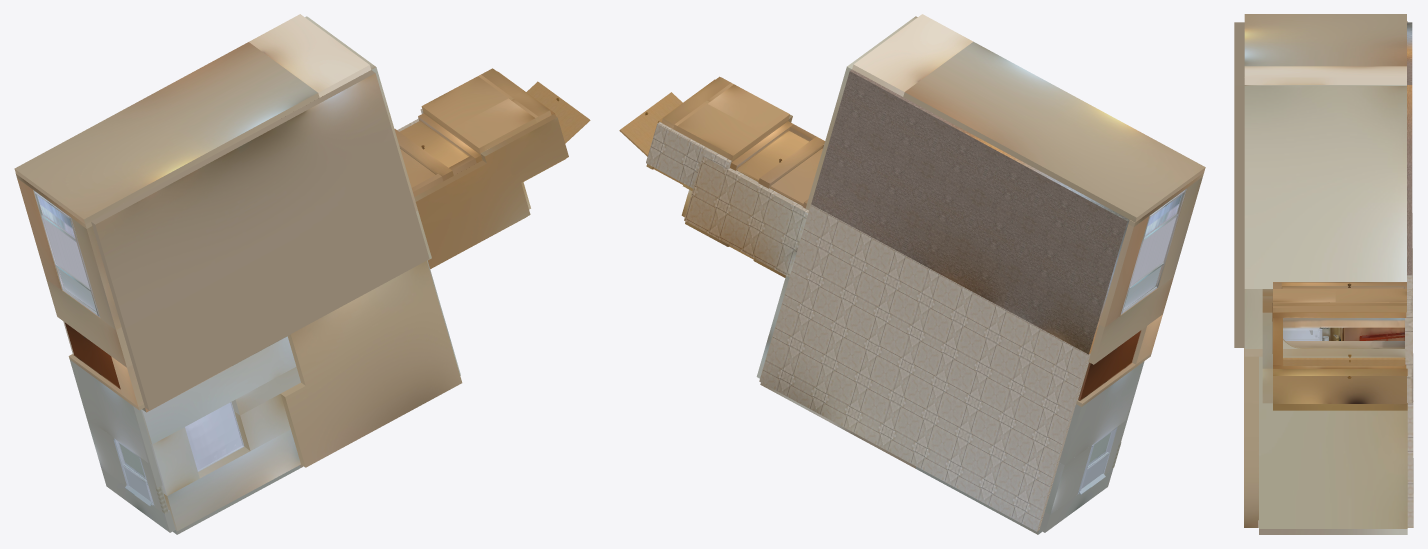
The picture shows the model from 3 angles, left to right: view 1: azimuth 30°, elevation 25°; view 2: azimuth 150°, elevation 25°; view 3: azimuth 270°, elevation 25°; orthographic projection. The views are drawn at different scales.
Parts seen in each view (by area): view 1: static_ceiling, static_structure, static_fixed, open_end_door_316, door_inst53, door_inst49; view 2: static_structure, static_fixed, door_inst49, open_end_door_316, door_inst53, door_inst71; view 3: static_structure, static_ceiling, open_end_door_316, static_fixed, bay_1_front_1_42, stool_inst208, door_inst71.
Boxes of the visible parts, bbox=[...] form: static_ceiling: bbox=[91, 70, 568, 530]; static_structure: bbox=[14, 14, 566, 534]; static_fixed: bbox=[33, 96, 468, 506]; open_end_door_316: bbox=[526, 81, 590, 143]; door_inst53: bbox=[400, 121, 468, 167]; door_inst49: bbox=[65, 322, 120, 388]; static_structure: bbox=[646, 14, 1205, 534]; static_fixed: bbox=[652, 130, 1186, 494]; door_inst49: bbox=[1078, 330, 1140, 399]; open_end_door_316: bbox=[619, 92, 682, 156]; door_inst53: bbox=[737, 131, 808, 181]; door_inst71: bbox=[770, 148, 822, 205]; static_structure: bbox=[1244, 14, 1413, 534]; static_ceiling: bbox=[1234, 22, 1272, 527]; open_end_door_316: bbox=[1283, 354, 1404, 365]; static_fixed: bbox=[1281, 286, 1405, 363]; bay_1_front_1_42: bbox=[1283, 330, 1322, 339]; stool_inst208: bbox=[1359, 332, 1404, 340]; door_inst71: bbox=[1282, 283, 1403, 288].
Size of the model in its own units: 11.73 by 9.19 by 2.98.
4 materials, 4 textured.
